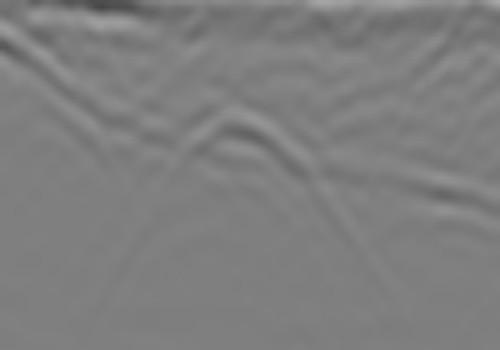hyperbola: (109, 94, 381, 300)
